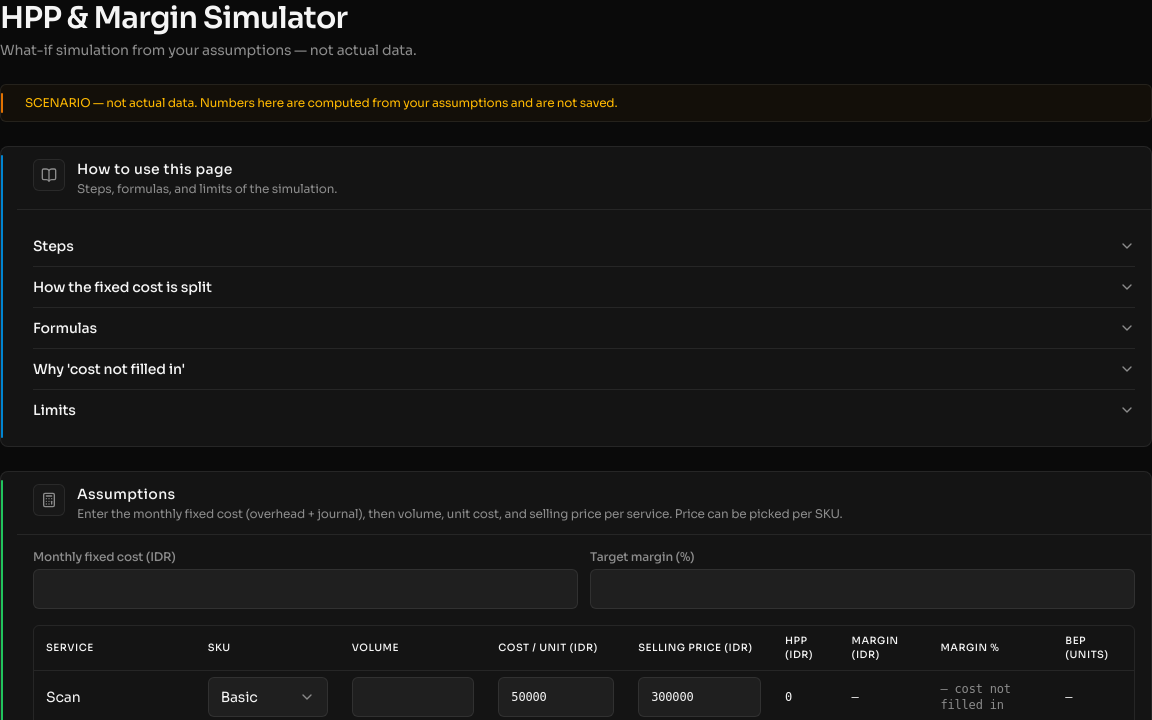
Test: AdminHppSimulator › still shows scan/host catalog prices
Expected: the field with test id "hpp-sim-price-scan" holds "300000", [638,677,761,717]
Click the dropdown with test id "hpp-sim-sku-scan" at (268,697), box [208,677,328,717]
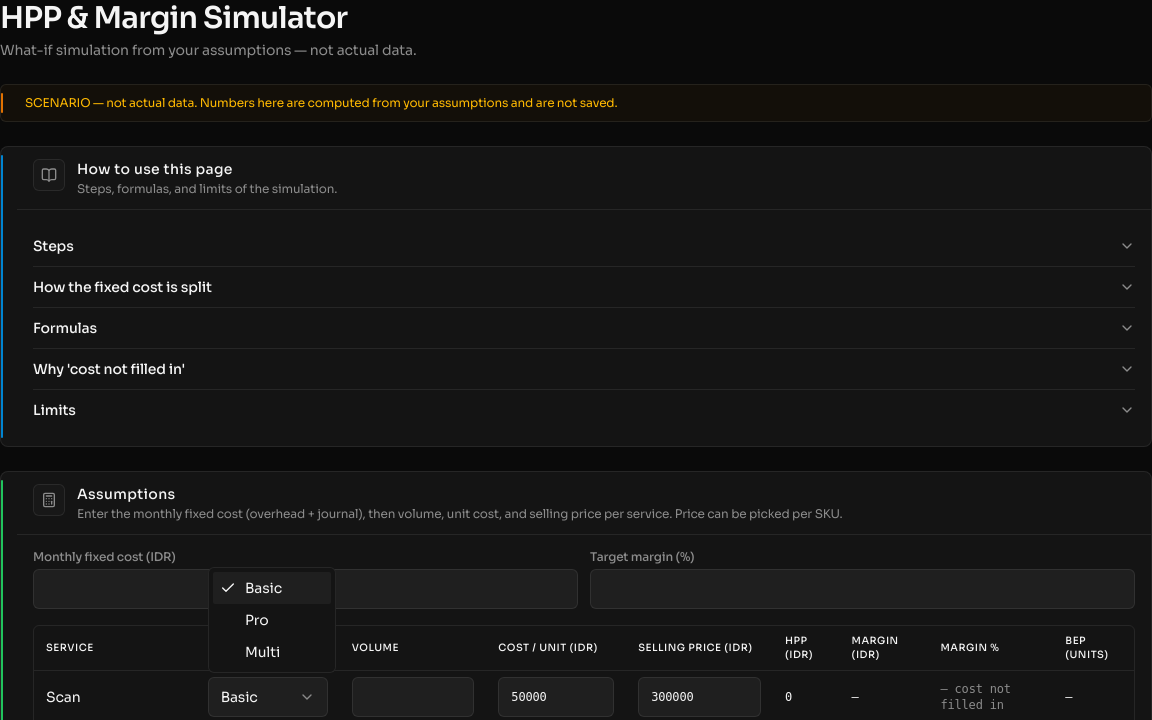
Click the option "Pro" at (257,620), box [245,611,269,629]
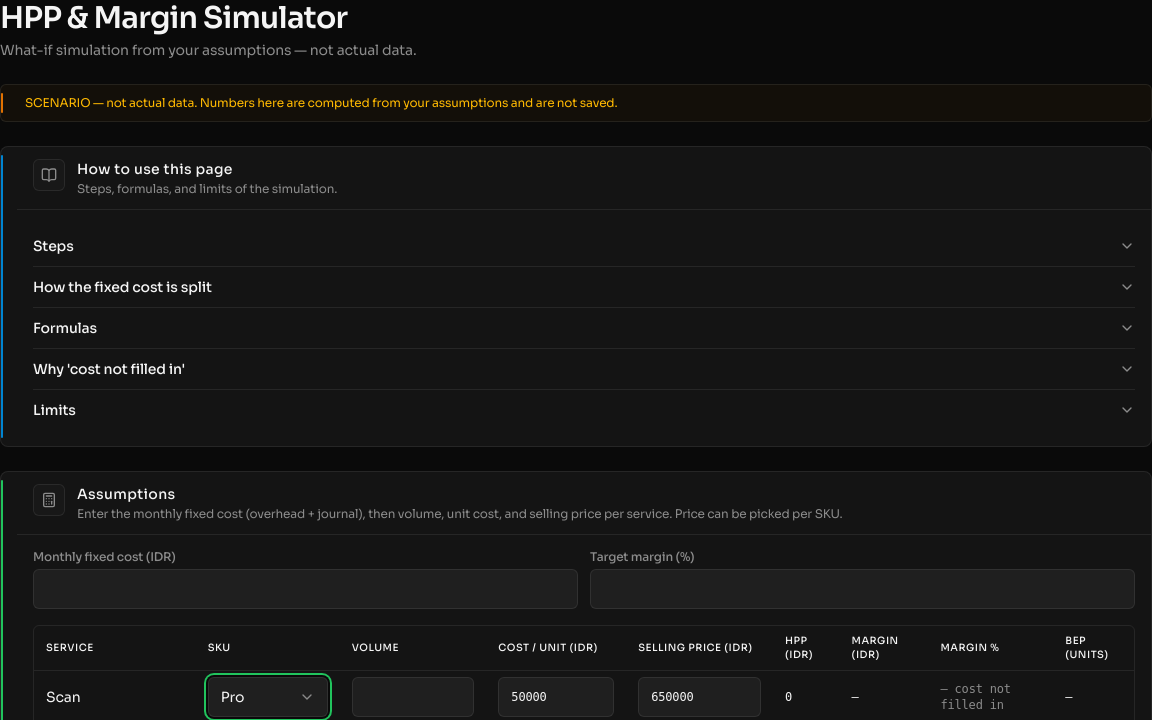
Expected: the field with test id "hpp-sim-price-scan" holds "650000", [638,677,761,717]
